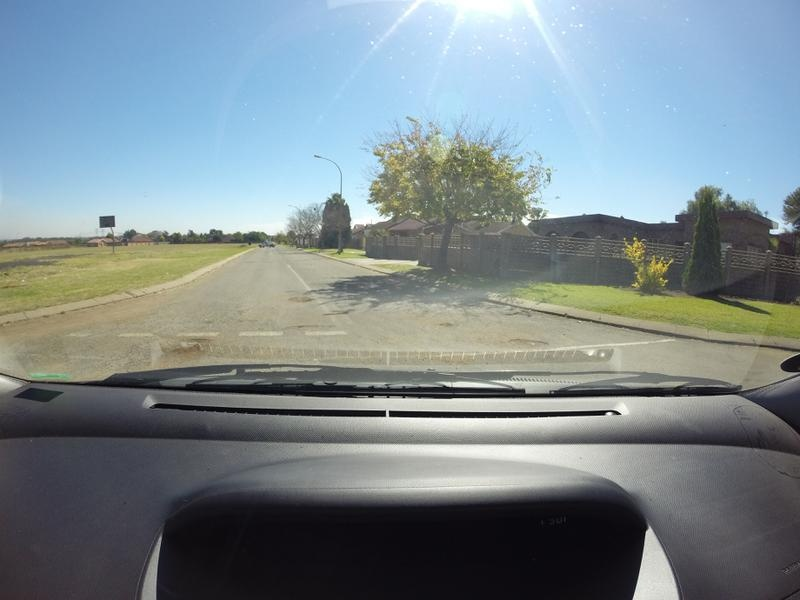pothole: (486, 331, 549, 350), (158, 339, 200, 367), (274, 322, 332, 332), (291, 288, 312, 307)
